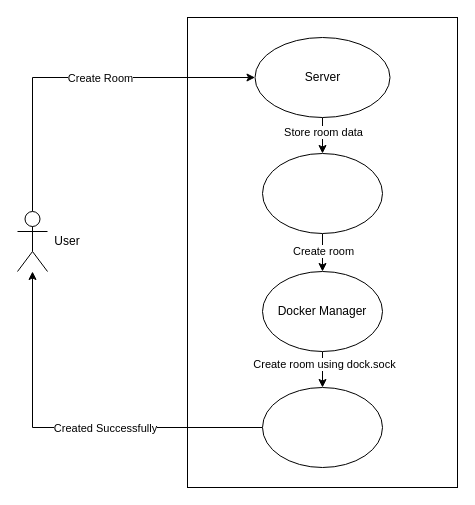
Image size: 475x505. Some labels were removed from this diagram. The shapes that lost their labels are listed below. From the top down, each one's box as (x1, y1, x2, y2) in pixels, then its label:
(262, 152, 382, 234): Database
(262, 386, 382, 468): Room
